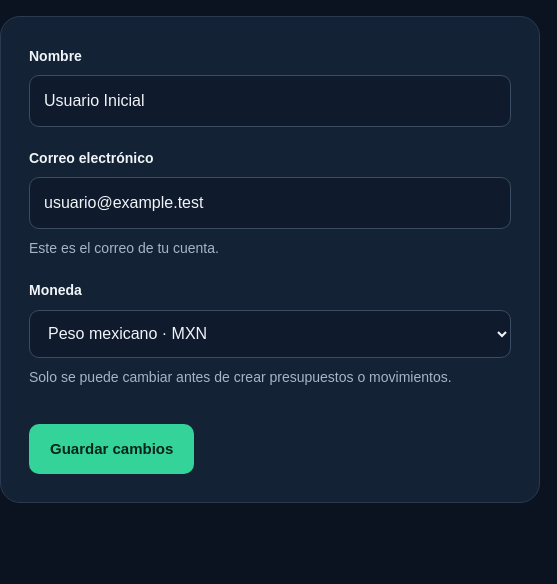
Test case: ProfileForm › validates field constraints before submitting
This screenshot has width=557, height=584.
Replace the text in the field labelled "Nombre" with "a": (270, 101) top-left (29, 75), bottom-right (511, 127)
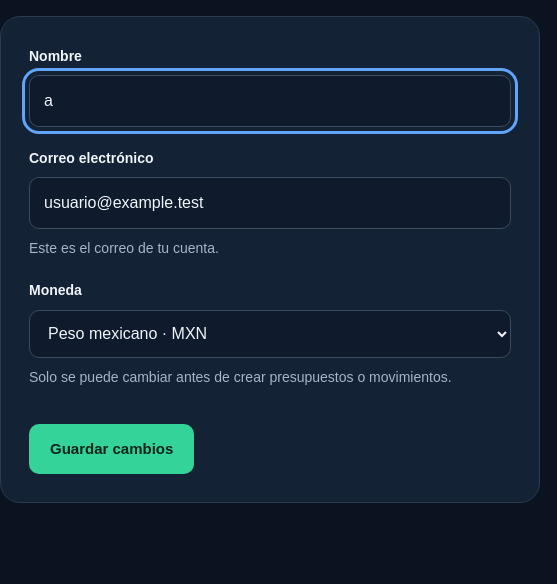
Click the button "Guardar cambios": (112, 449) top-left (29, 424), bottom-right (194, 474)
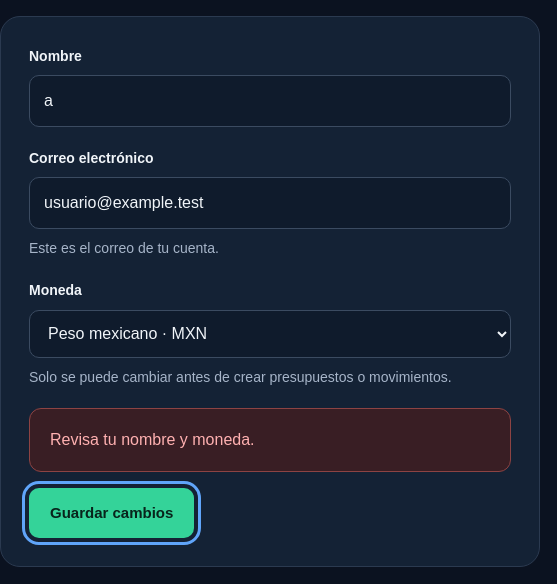
Expected: the message reads "Revisa tu nombre y moneda.", top-left (50, 431), bottom-right (254, 448)
